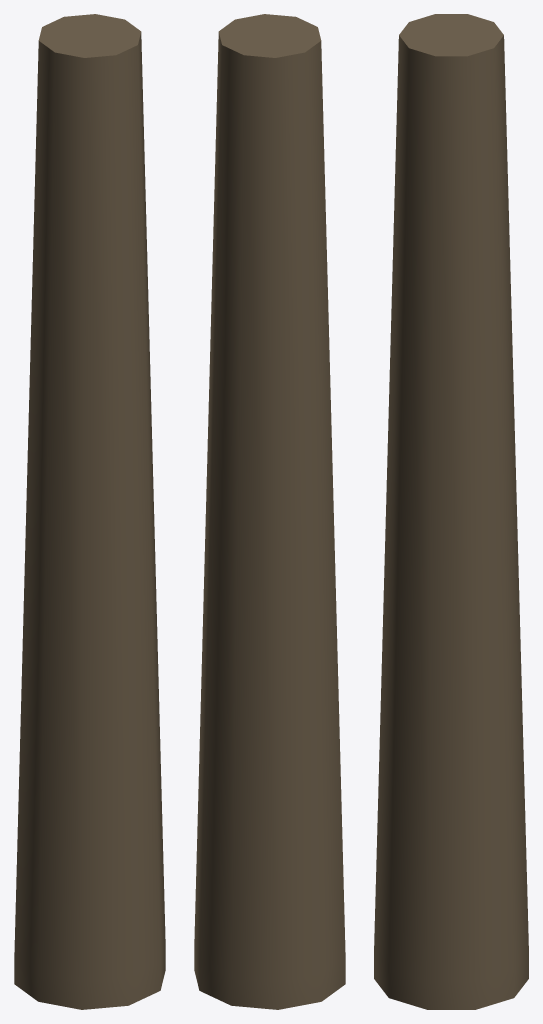
File: stem.fbx
The picture shows the model from 3 angles, left to right: view 1: azimuth 30°, elevation 25°; view 2: azimuth 150°, elevation 25°; view 3: azimuth 270°, elevation 25°; orthographic projection.
Visible parts, largest first — view 1: pasted__polySurface72; view 2: pasted__polySurface72; view 3: pasted__polySurface72.
Part boxes in pixels (bbox=[...]): pasted__polySurface72: bbox=[14, 14, 165, 1009]; pasted__polySurface72: bbox=[194, 14, 345, 1009]; pasted__polySurface72: bbox=[374, 14, 528, 1009].
Bounding box in the file's own units: 3.02 × 21.37 × 3.18.
